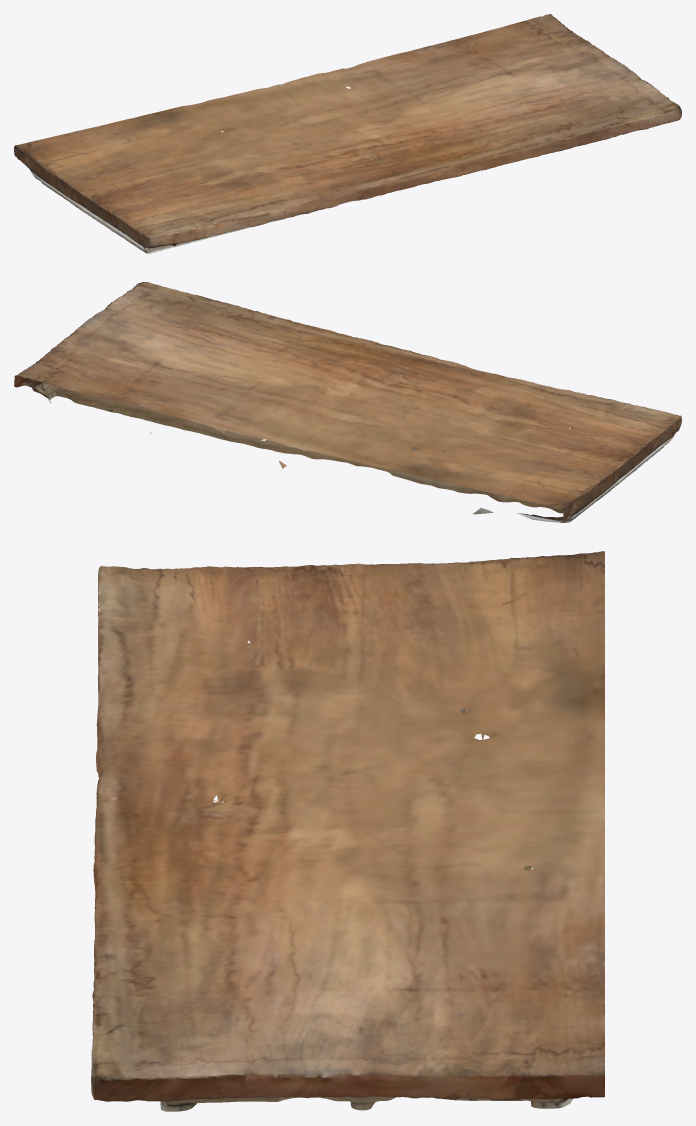
The model's file is weather_timber_table_top_2_scaniverse.glb.
3 renders of one model, top to bottom at view 1: azimuth 30°, elevation 25°; view 2: azimuth 150°, elevation 25°; view 3: azimuth 270°, elevation 25°, orthographic. The views are drawn at different scales.
Visible parts, largest first — view 1: mesh_main_0; view 2: mesh_main_0; view 3: mesh_main_0.
Part boxes in pixels (x1,y1,x2,y2): mesh_main_0: (14, 14, 681, 253); mesh_main_0: (14, 282, 681, 522); mesh_main_0: (91, 551, 604, 1111).
Bounding box in the file's own units: 1.95 × 0.0994 × 0.8006.
Materials: 1 (1 with a texture image).
